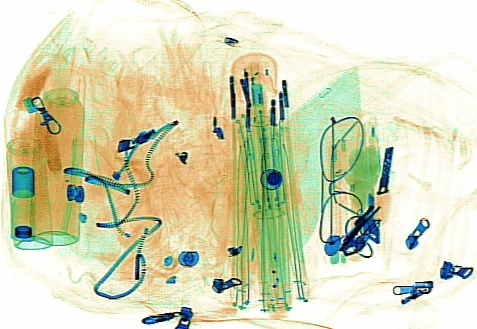pressure: (28, 65, 86, 245), (3, 107, 53, 249)
